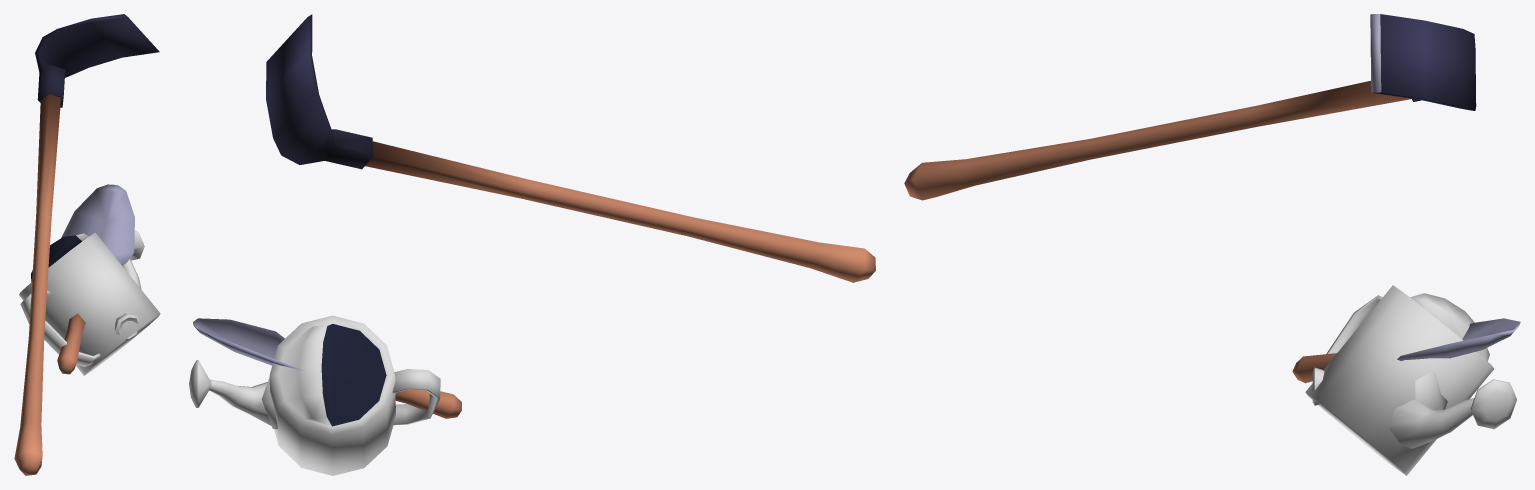
File: Tool_SeedBag.fbx
3 views of the same model, side by side, from view 1: azimuth 30°, elevation 25°; view 2: azimuth 150°, elevation 25°; view 3: azimuth 270°, elevation 25° (orthographic). The views are drawn at different scales.
Parts seen in each view (by area): view 1: Hoe, WateringCan, Trowel, SeedBag; view 2: Hoe, WateringCan, Trowel; view 3: WateringCan, Hoe, Trowel, SeedBag.
Boxes of the visible parts, x1=… form: Hoe: x1=14, y1=14, x2=159, y2=475; WateringCan: x1=19, y1=230, x2=160, y2=375; Trowel: x1=57, y1=184, x2=134, y2=374; SeedBag: x1=114, y1=313, x2=139, y2=340; Hoe: x1=266, y1=14, x2=875, y2=282; WateringCan: x1=189, y1=315, x2=440, y2=475; Trowel: x1=193, y1=318, x2=461, y2=418; WateringCan: x1=1305, y1=285, x2=1516, y2=475; Hoe: x1=904, y1=14, x2=1476, y2=200; Trowel: x1=1292, y1=318, x2=1520, y2=383; SeedBag: x1=1312, y1=367, x2=1447, y2=410.
Size of the model in its own units: 292 by 297 by 352.
